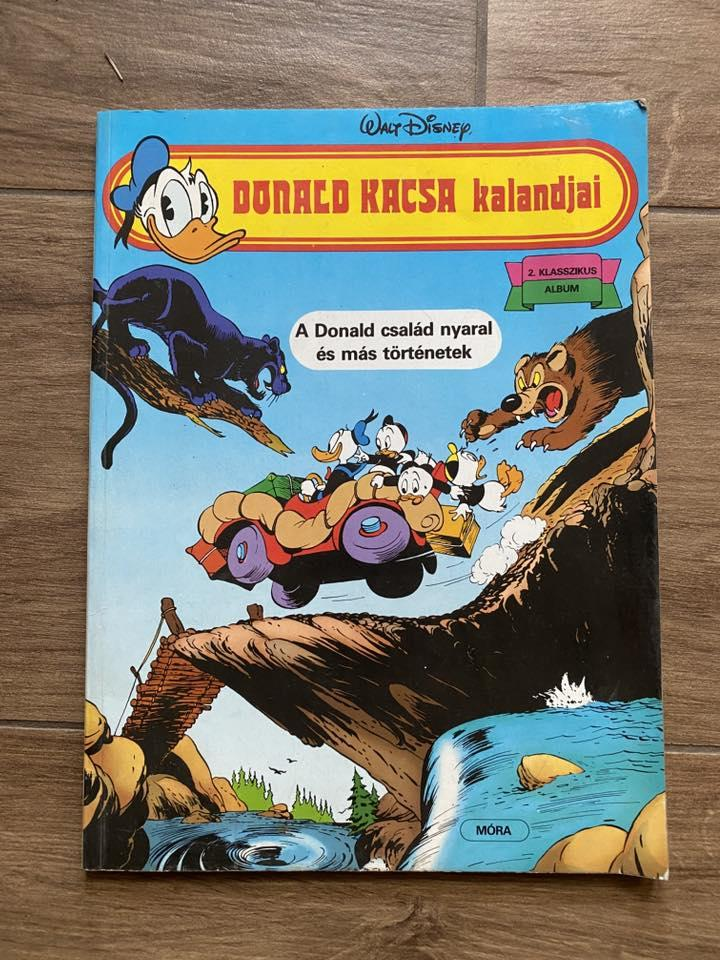comic: (84, 101, 666, 876)
